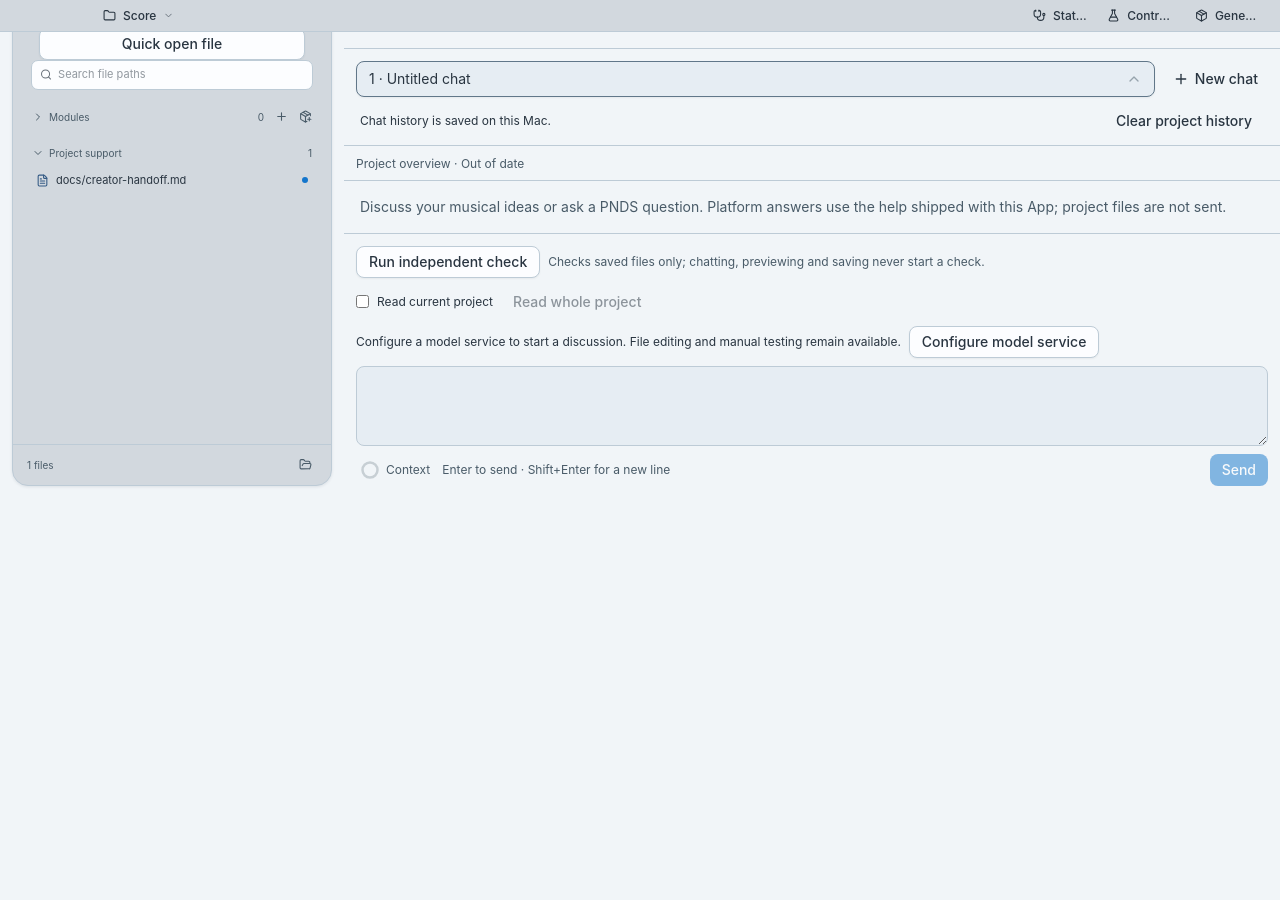
Test case: refuses to append over an unsaved handoff draft
Click the button named "Add PNDS module" at (281,117), box left=269, top=105, right=293, bottom=129
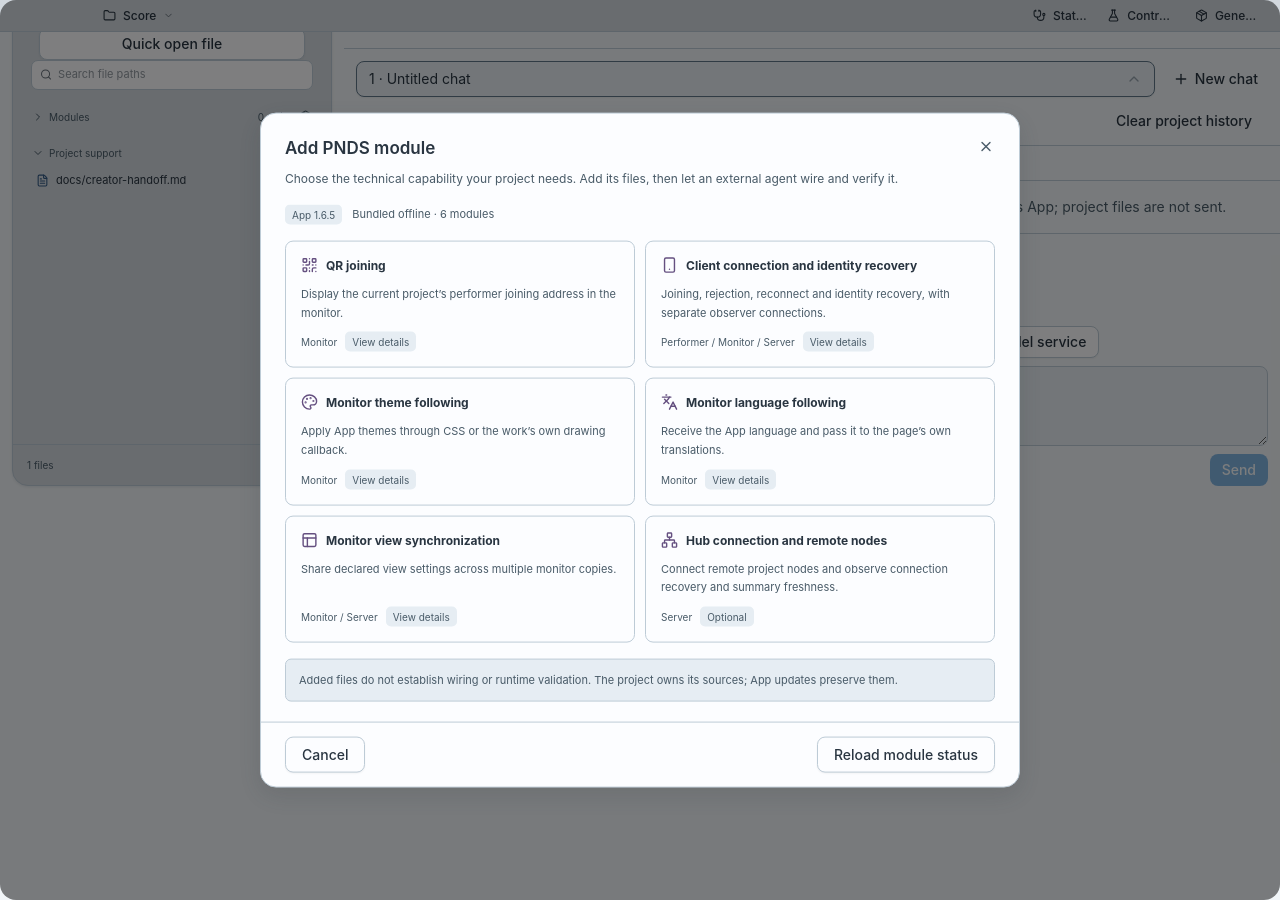
Click the button "QR joining" at (356,265), box left=285, top=241, right=635, bottom=368
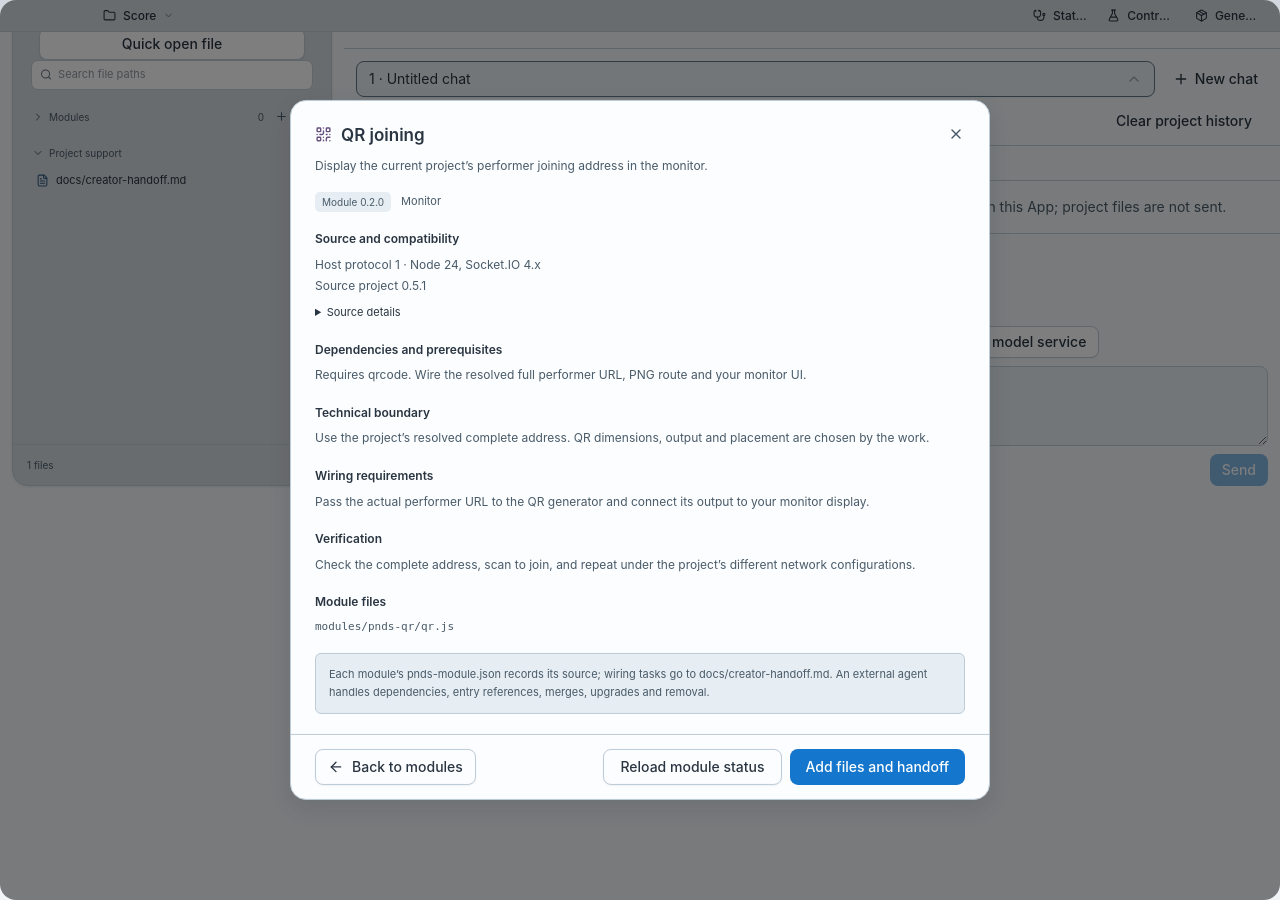
Click the button "Add files and handoff" at (877,767), box left=790, top=749, right=965, bottom=785
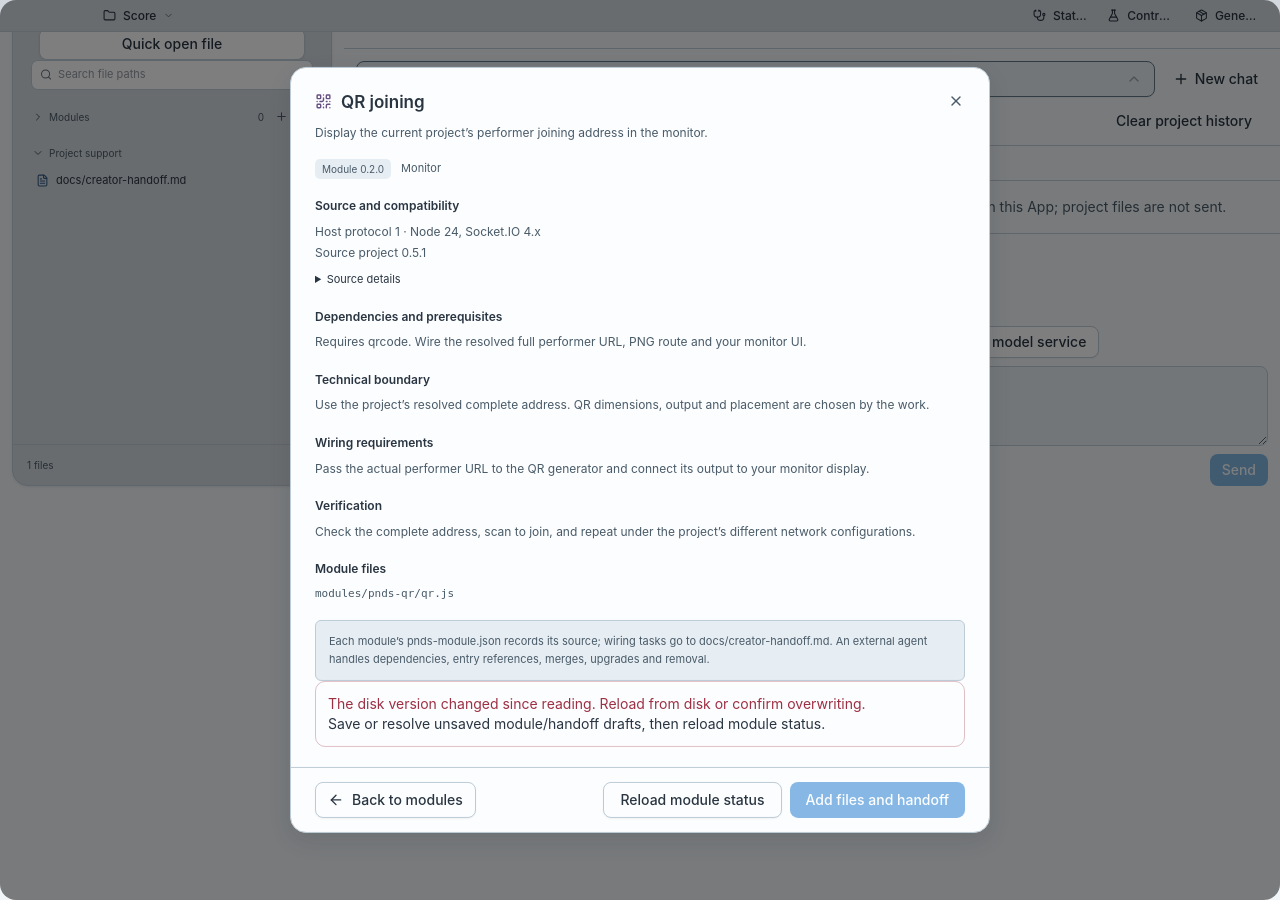
Now the message shows "Save or resolve unsaved", box left=328, top=715, right=825, bottom=732
